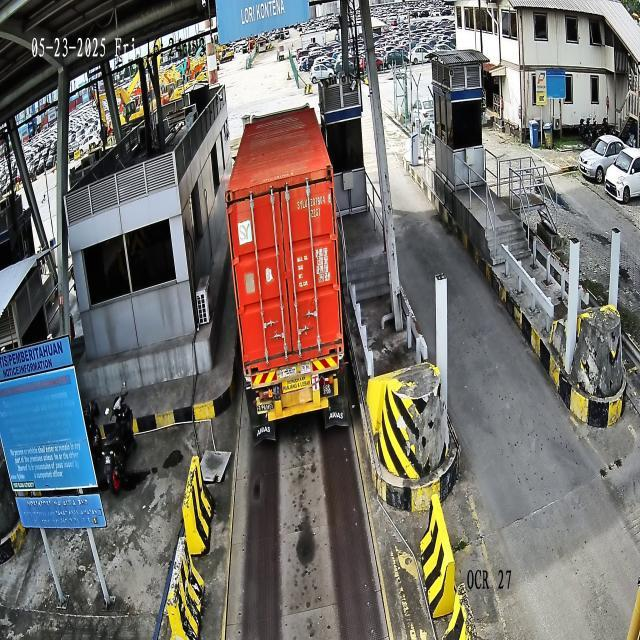ISO: (310, 207, 321, 219)
container_number: (296, 193, 332, 210)
